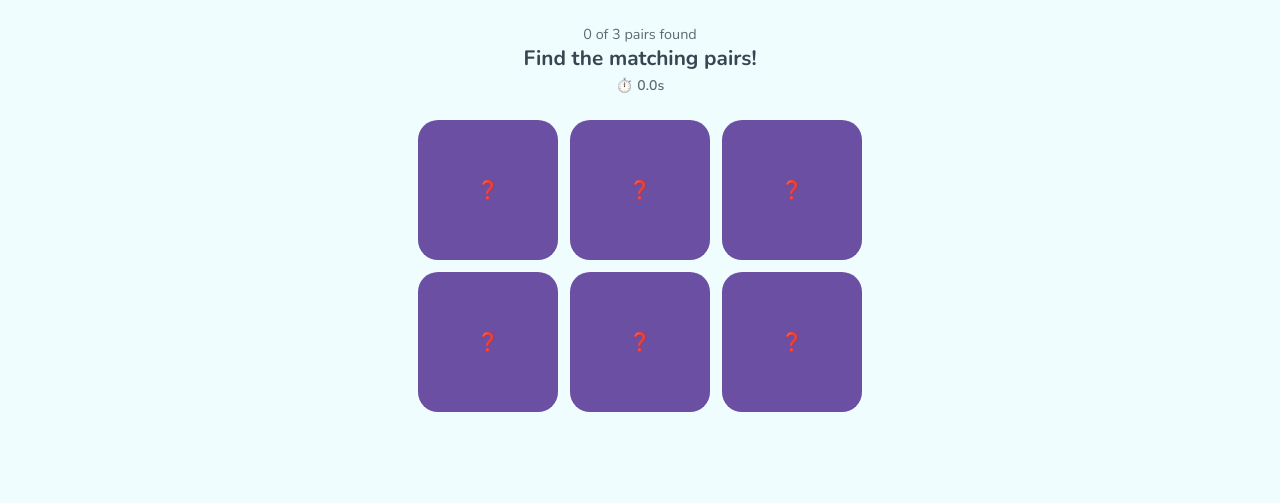
AnimalMemoryMatchGame › shows the fastest-board record banner on the results screen
Click the 1st button "❓" at coordinates (488, 190), box [418,120,558,260]
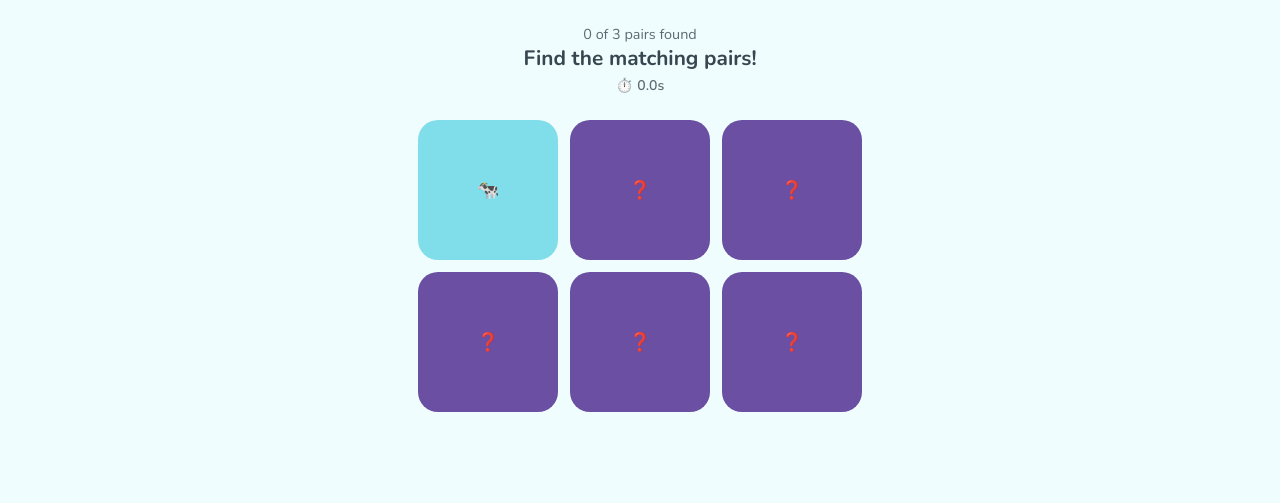
Click the 2nd button "❓" at coordinates (792, 190), box [722,120,862,260]
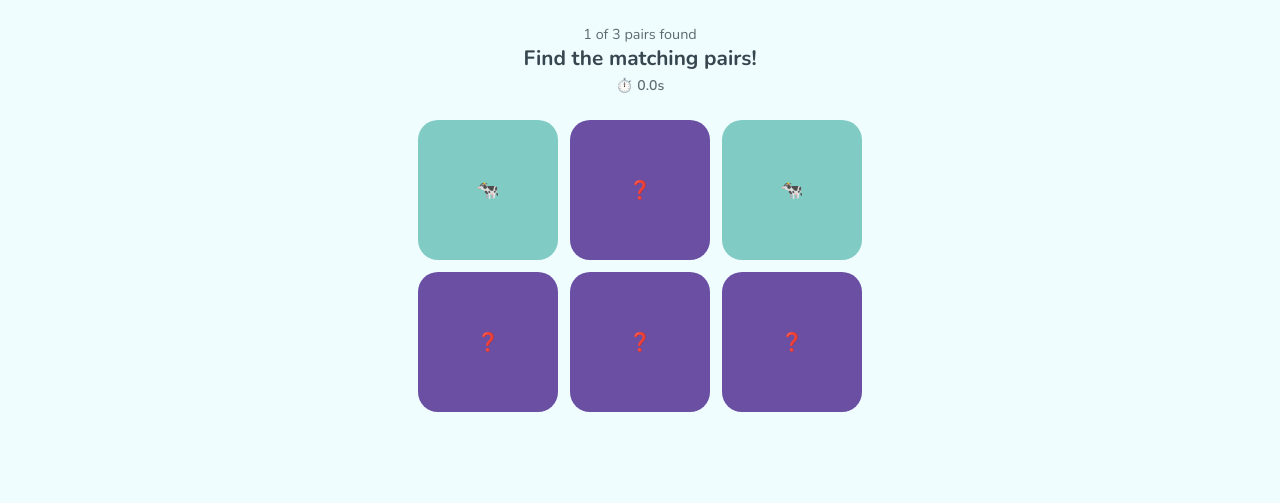
Click the 1st button "❓" at coordinates (640, 190), box [570,120,710,260]
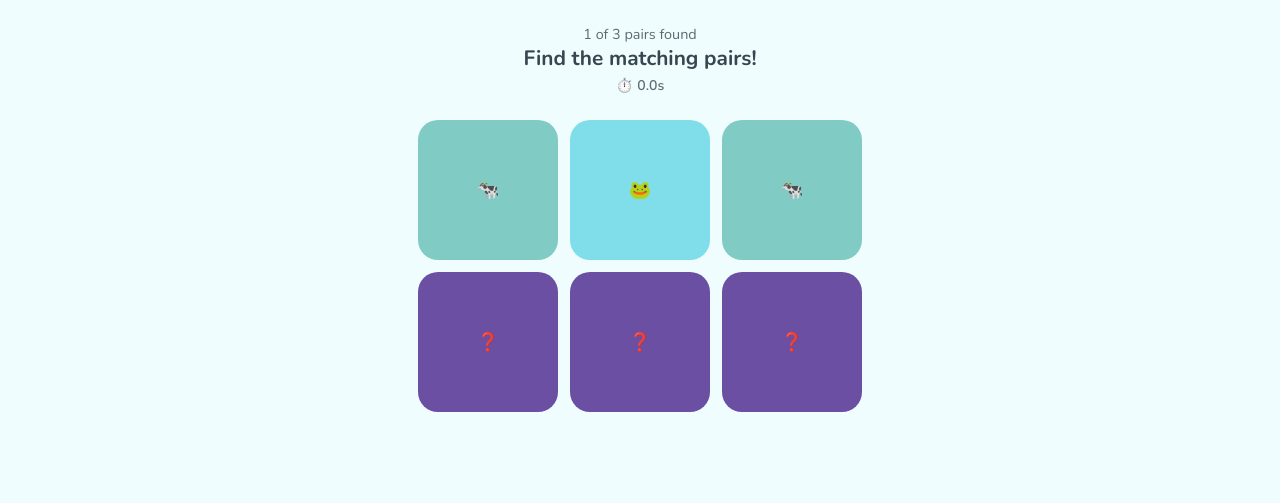
Click the 2nd button "❓" at coordinates (640, 342), box [570,272,710,412]
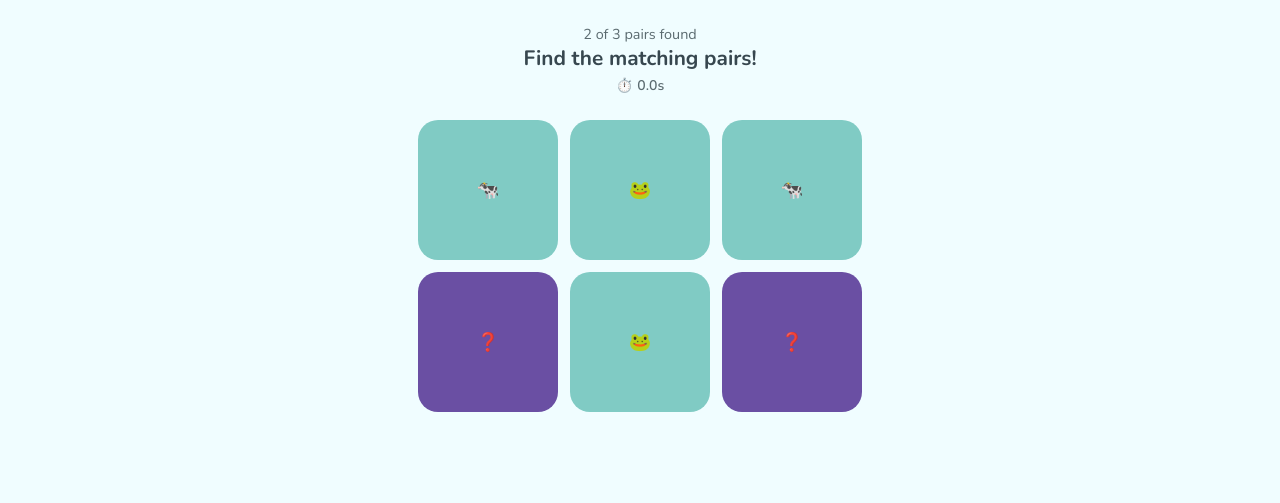
Click the 1st button "❓" at coordinates (488, 342), box [418,272,558,412]
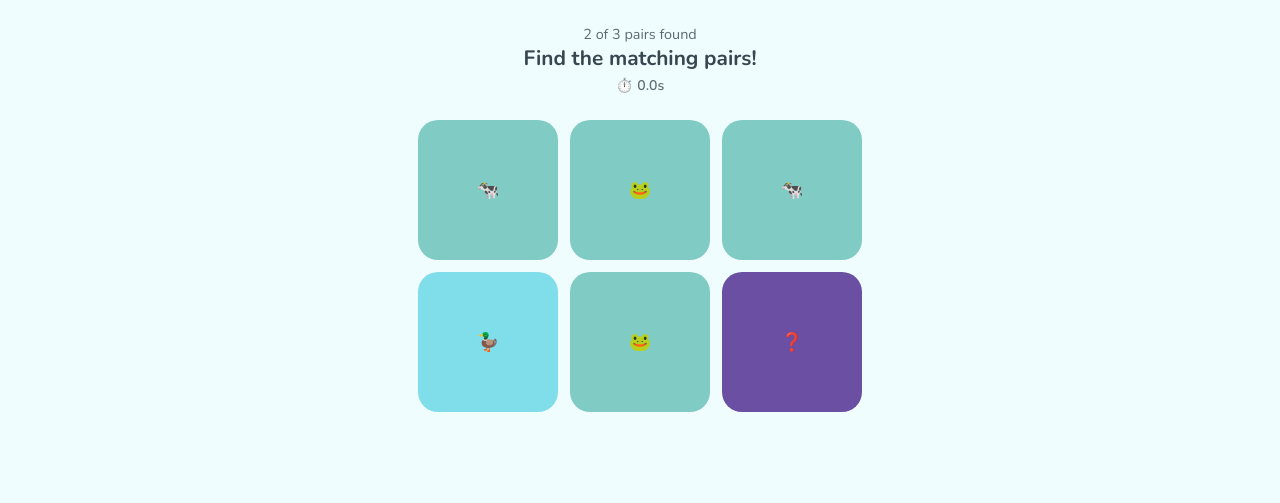
Click the button "❓" at coordinates (792, 342), box [722,272,862,412]
Wait 2100 ms
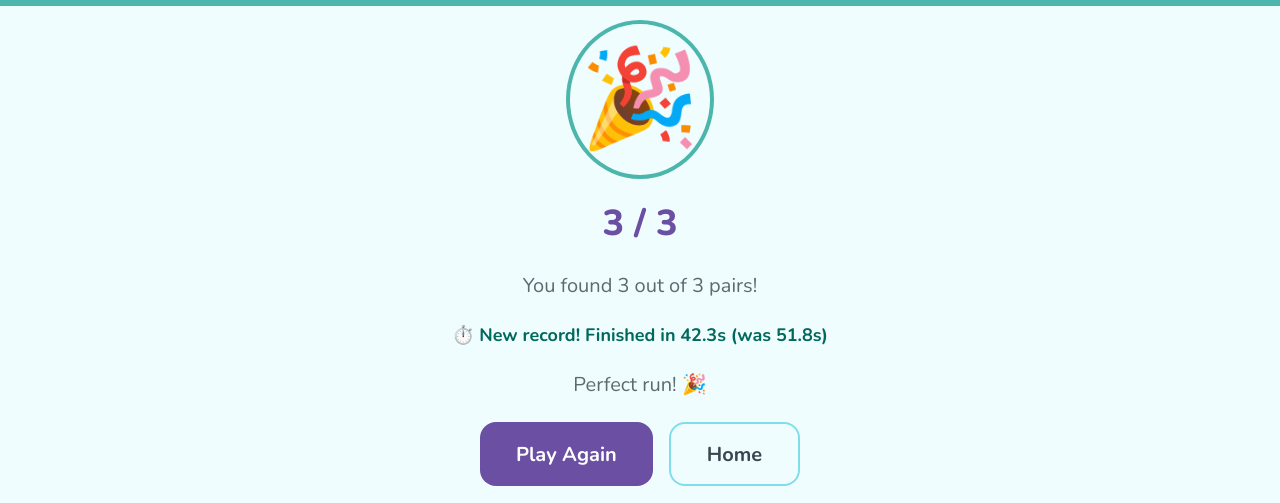
Expected: the text "⏱️ New record! Finished in 42.3s (was 51.8s)" is shown, [452,323,828,347]
